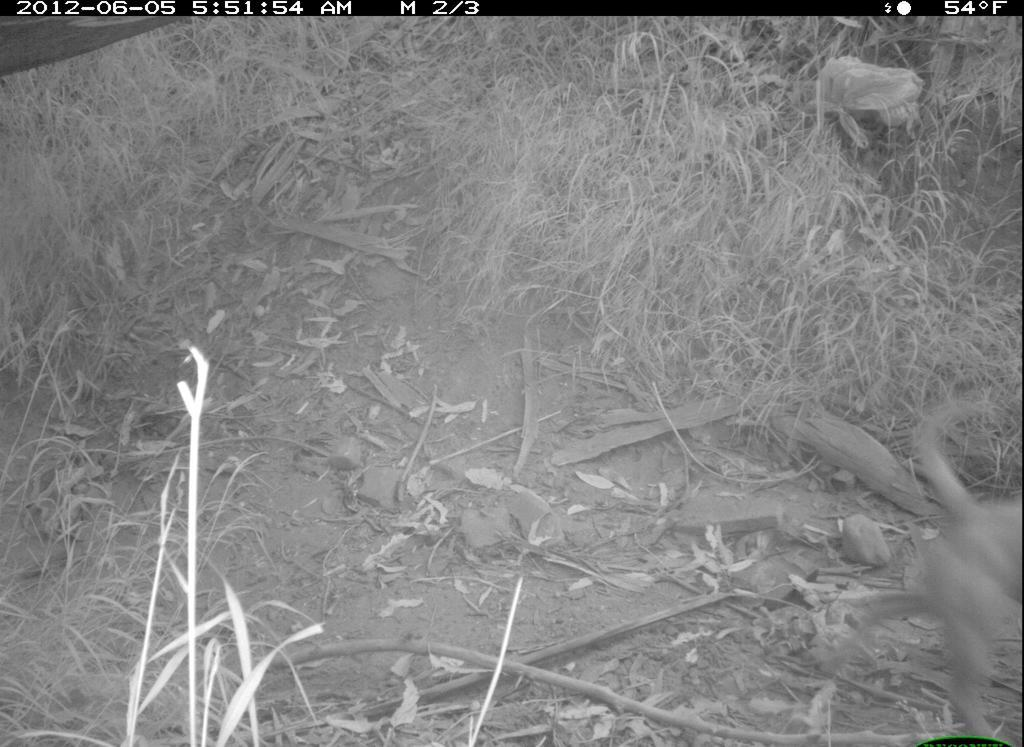dog: (884, 385, 1022, 745)
